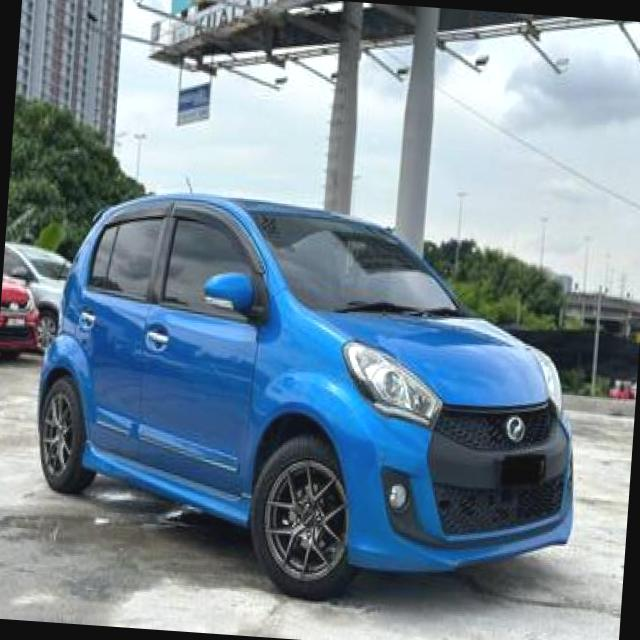PeroduaMyvi: (22, 176, 595, 619)
